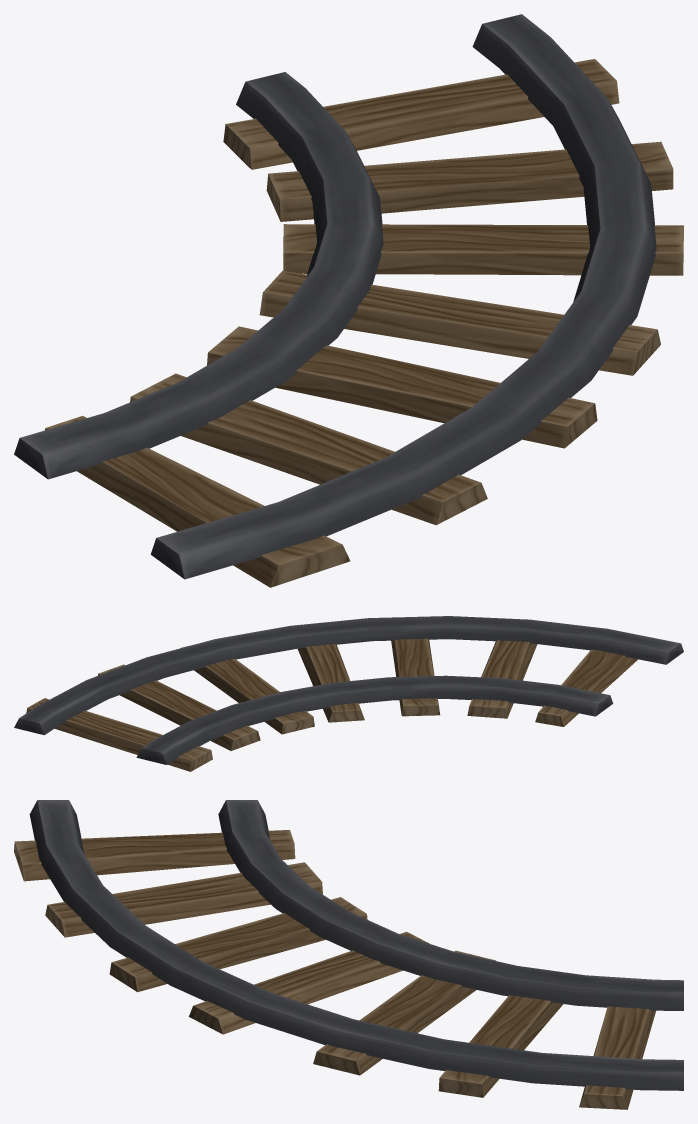
The model's file is Mine_tracks2.fbx.
3 views of the same model, one above another, from view 1: azimuth 30°, elevation 25°; view 2: azimuth 150°, elevation 25°; view 3: azimuth 270°, elevation 25° (orthographic). The views are drawn at different scales.
Parts seen in each view (by area): view 1: polySurface1181; view 2: polySurface1181; view 3: polySurface1181.
Boxes of the visible parts, bbox=[...] form: polySurface1181: bbox=[14, 14, 683, 587]; polySurface1181: bbox=[14, 616, 683, 771]; polySurface1181: bbox=[14, 800, 683, 1109].
Size of the model in its own units: 125 by 5.54 by 125.
Materials: 1 (1 with a texture image).
